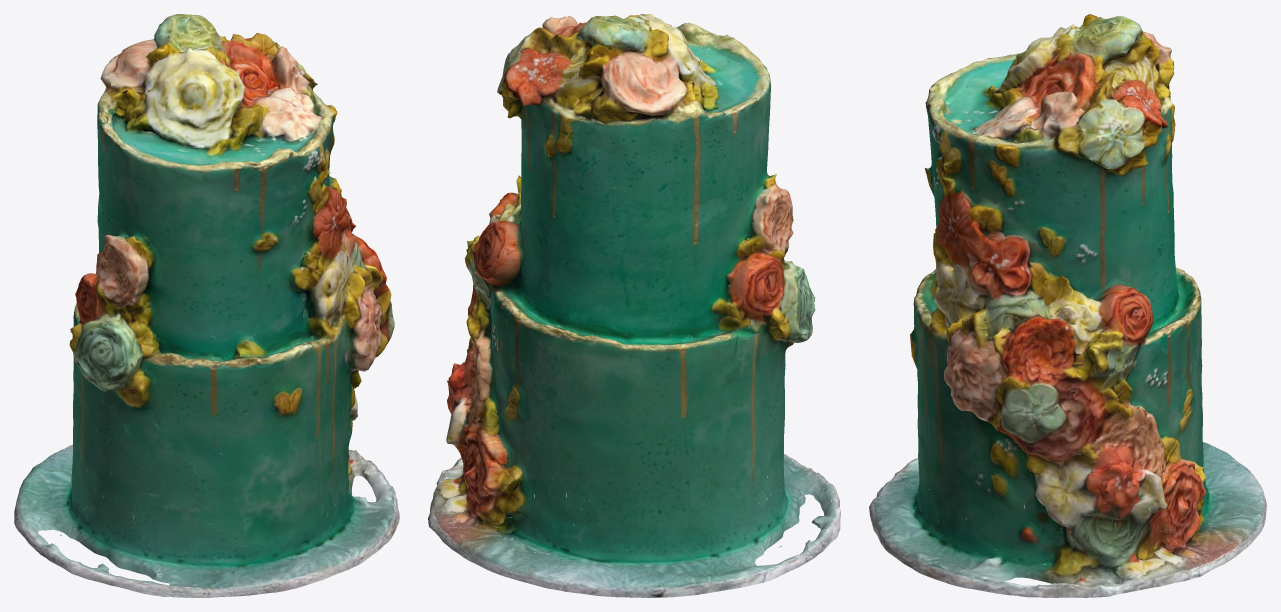
File: flower-25-aero.glb
The picture shows the model from 3 angles, left to right: view 1: azimuth 30°, elevation 25°; view 2: azimuth 150°, elevation 25°; view 3: azimuth 270°, elevation 25°; orthographic projection. The views are drawn at different scales.
Visible parts, largest first — view 1: mesh 5; view 2: mesh 5; view 3: mesh 5.
Part boxes in pixels (x1,y1,x2,y2): mesh 5: (14, 14, 399, 597); mesh 5: (428, 14, 840, 597); mesh 5: (869, 14, 1266, 597).
Bounding box in the file's own units: 0.2583 × 0.3556 × 0.2573.
14 materials, 14 textured.
